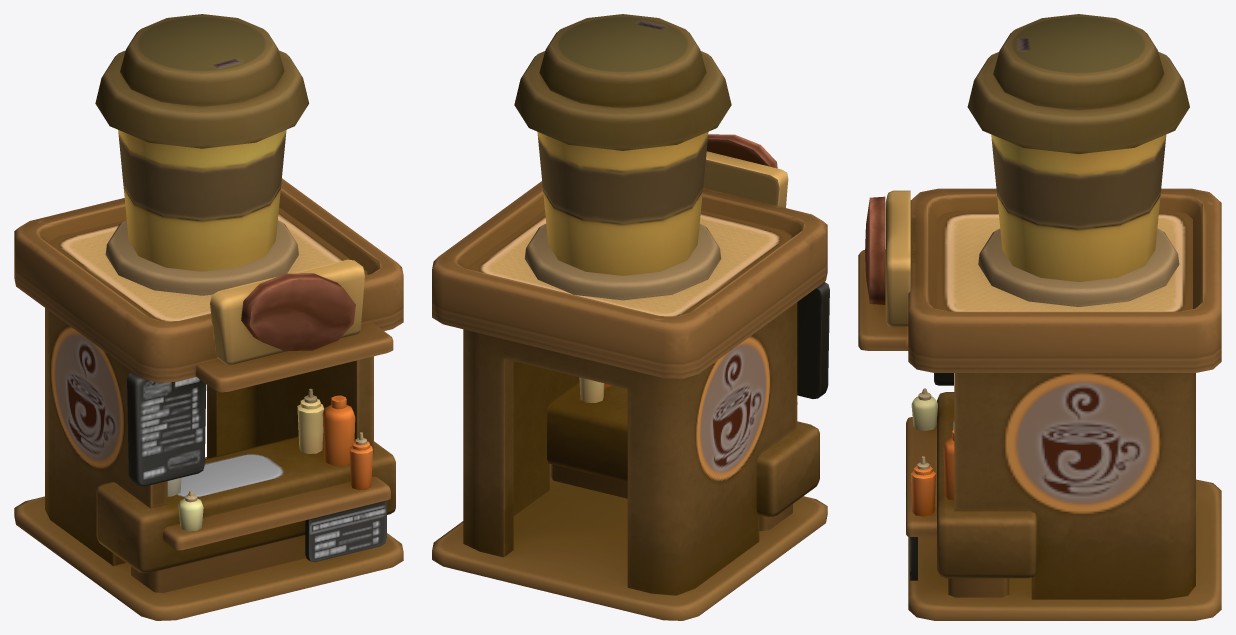
File: Mesh_Coffee.FBX
The picture shows the model from 3 angles, left to right: view 1: azimuth 30°, elevation 25°; view 2: azimuth 150°, elevation 25°; view 3: azimuth 270°, elevation 25°; orthographic projection. The views are drawn at different scales.
Parts seen in each view (by area): view 1: Mesh_Coffee; view 2: Mesh_Coffee; view 3: Mesh_Coffee.
Part boxes in pixels (<box>): Mesh_Coffee: <box>14,14,403,620</box>; Mesh_Coffee: <box>432,14,829,620</box>; Mesh_Coffee: <box>858,14,1221,620</box>.
Size of the model in its own units: 2.51 by 4.43 by 2.86.
1 material, 1 textured.
